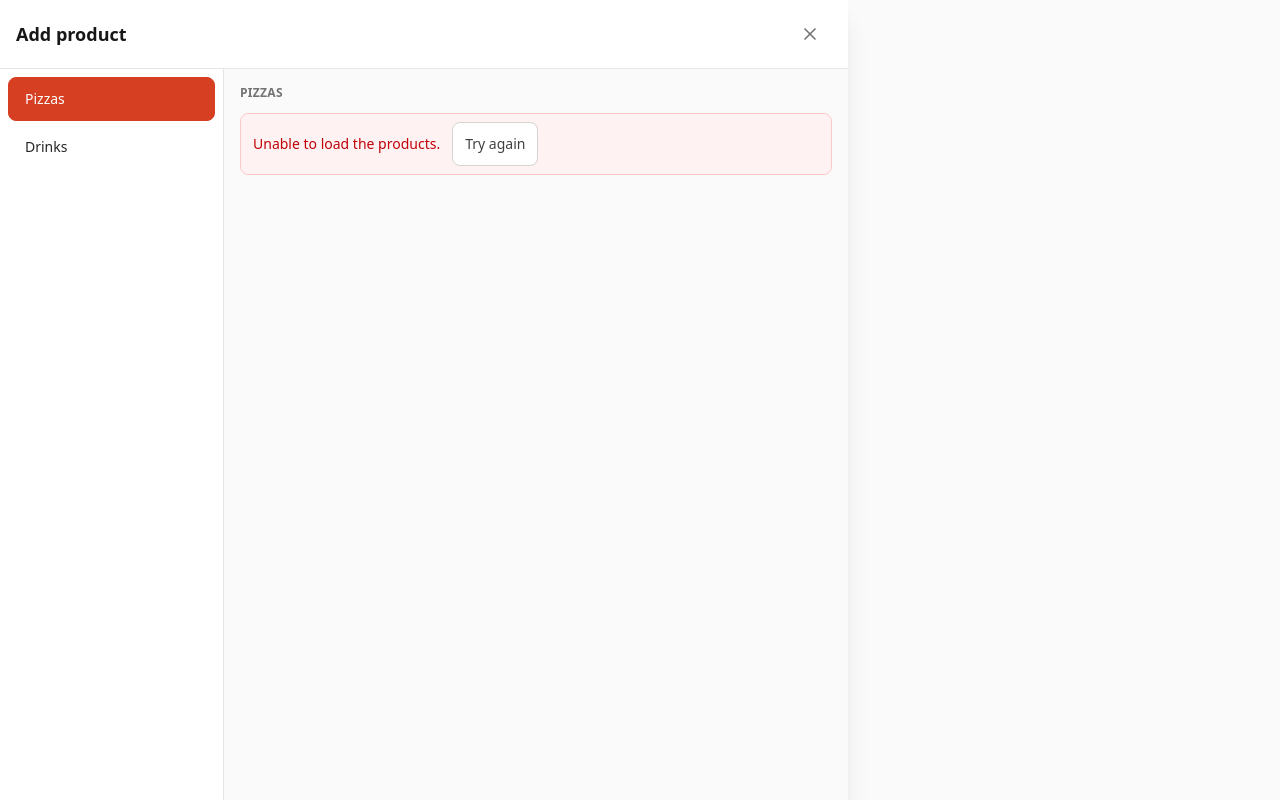
MenuTableauPanel › shows an error and retries loading the products
Click the button "Try again".
click(495, 144)  # box [452,122,538,166]
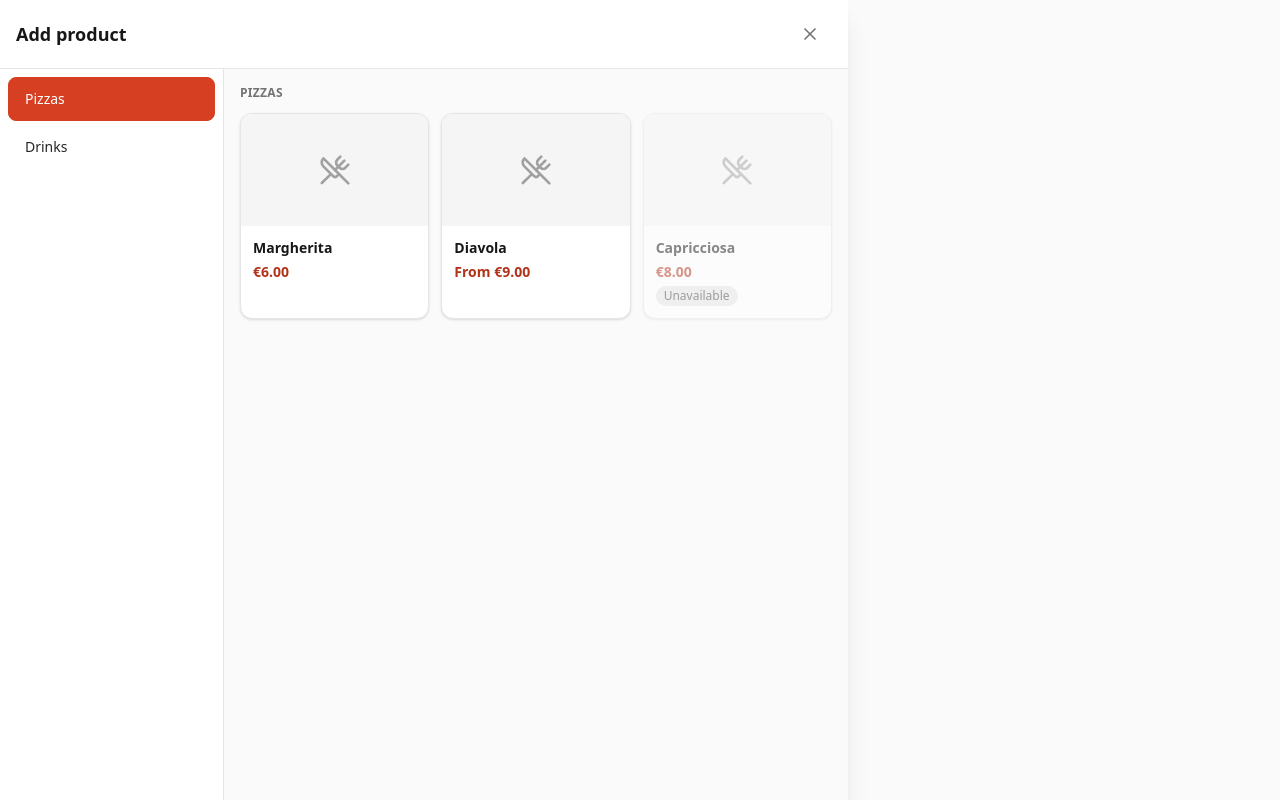
Check: the text "Margherita" is shown, box [253,238,332,258]
